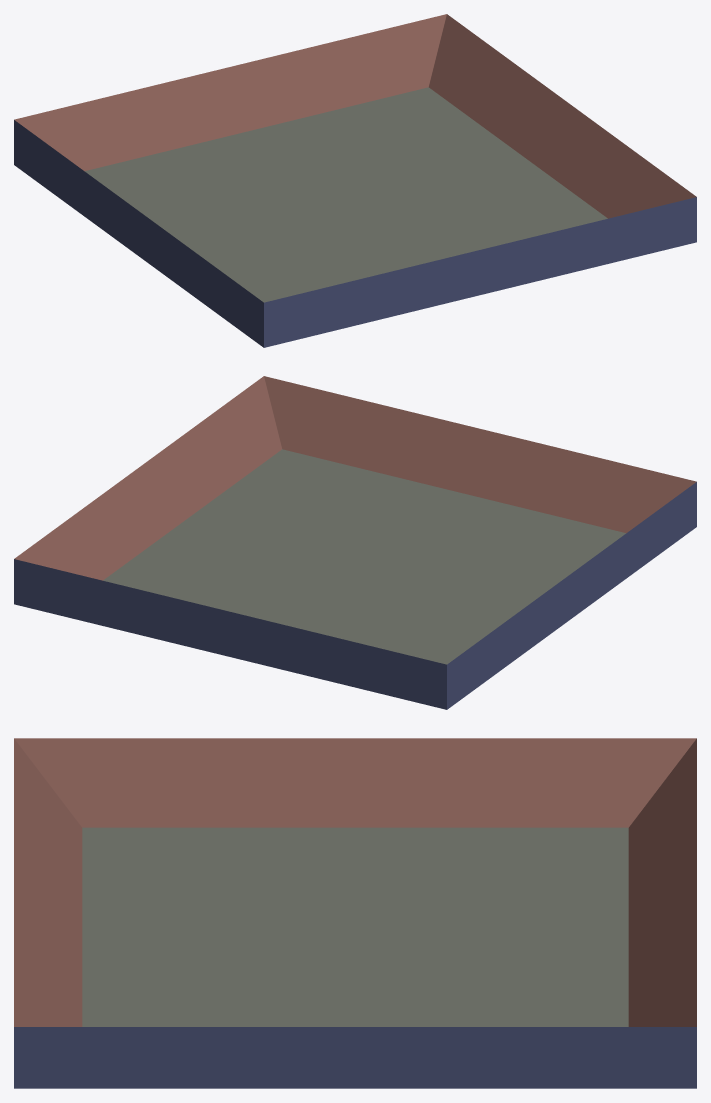
The model's file is Floor_dimple.fbx.
3 renders of one model, top to bottom at view 1: azimuth 30°, elevation 25°; view 2: azimuth 150°, elevation 25°; view 3: azimuth 270°, elevation 25°, orthographic. The views are drawn at different scales.
Visible parts, largest first — view 1: Cube; view 2: Cube; view 3: Cube.
Part boxes in pixels (x1,y1,x2,y2): Cube: (14,14,696,347); Cube: (14,376,696,709); Cube: (14,738,696,1088).
Bounding box in the file's own units: 100 × 10 × 100.
